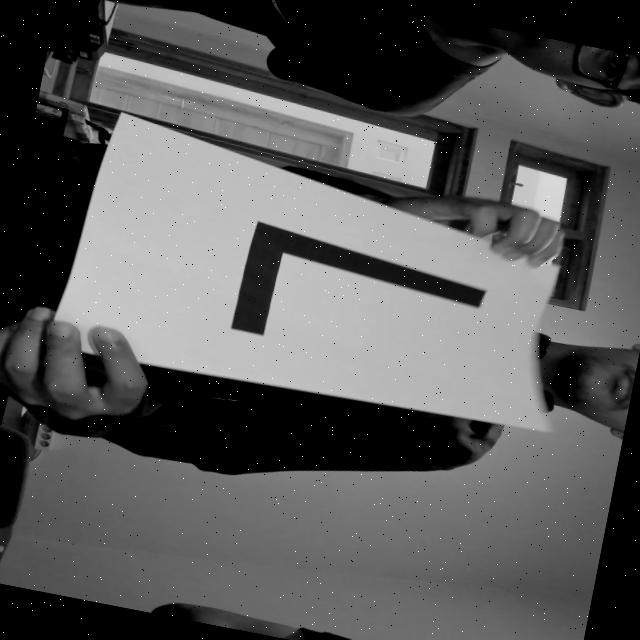l: (186, 206, 504, 384)
